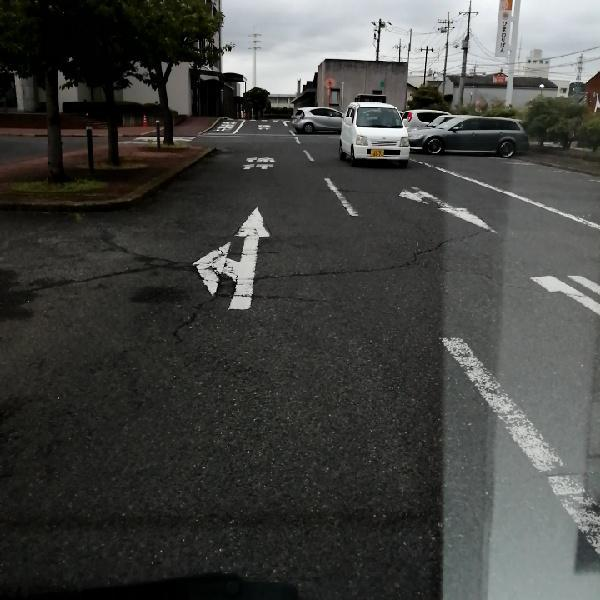D00: (168, 290, 210, 342)
D20: (160, 205, 507, 317)
D44: (437, 332, 597, 579), (168, 204, 407, 323), (174, 195, 312, 321), (309, 164, 369, 225)
